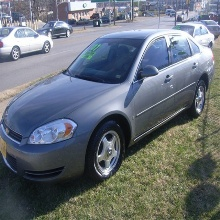no damage: (1, 28, 213, 181), (1, 19, 74, 61)
